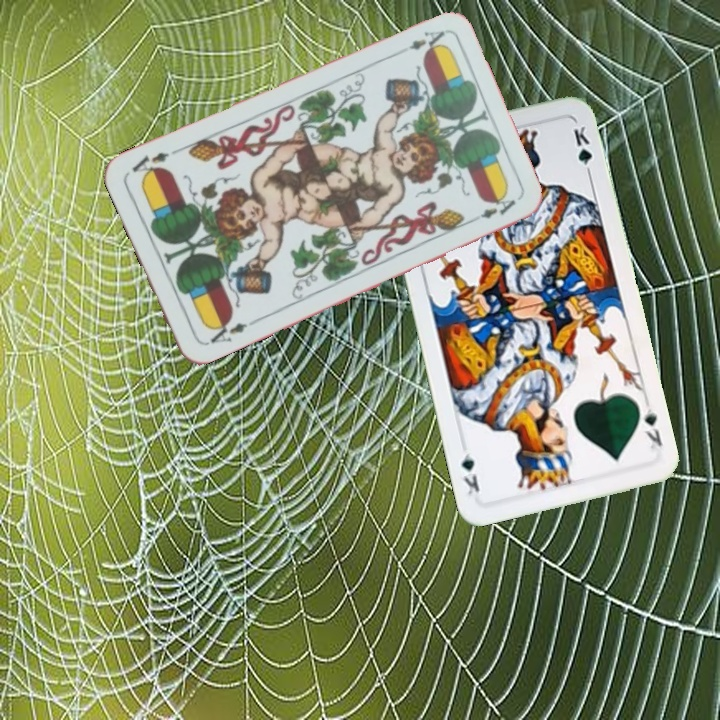EA: (391, 26, 447, 57), (201, 314, 250, 348)
GK: (633, 401, 665, 452)
